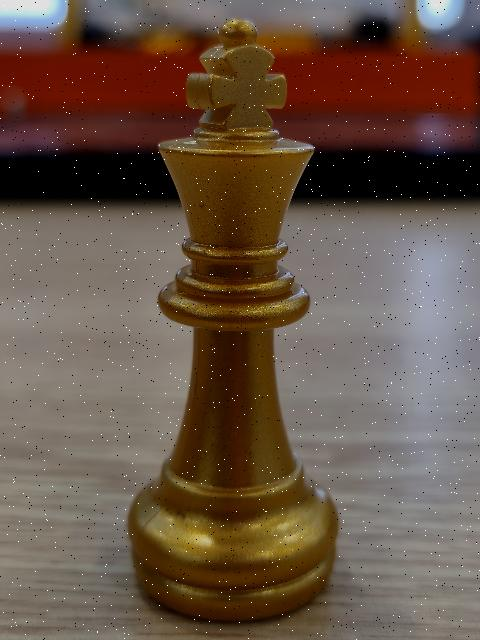black_king: (128, 18, 339, 622)
